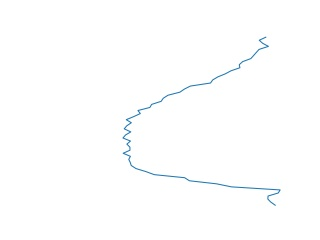underwaterDistributaryChannel: (118, 36, 285, 209)
